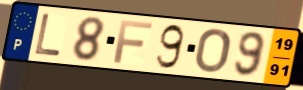8: (71, 15, 106, 63)
9: (233, 31, 267, 79), (154, 23, 186, 70)
F: (112, 19, 155, 65)
L: (32, 12, 64, 58)
O: (193, 27, 233, 75)
